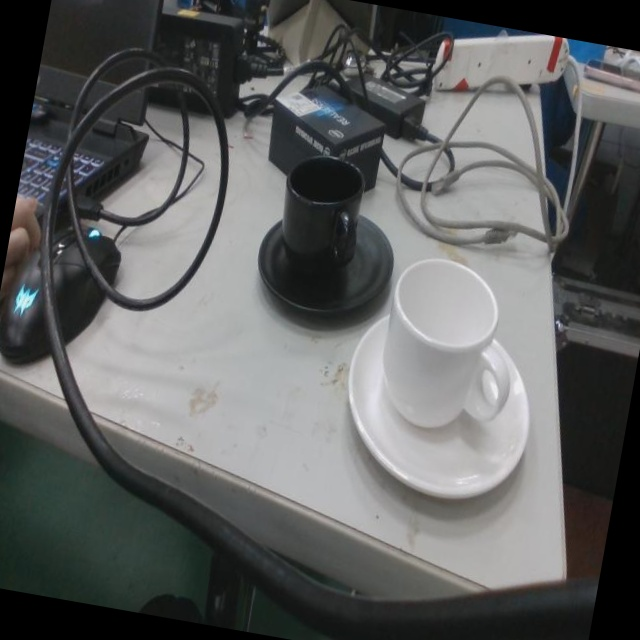black: (259, 154, 398, 323)
white: (347, 256, 538, 503)
